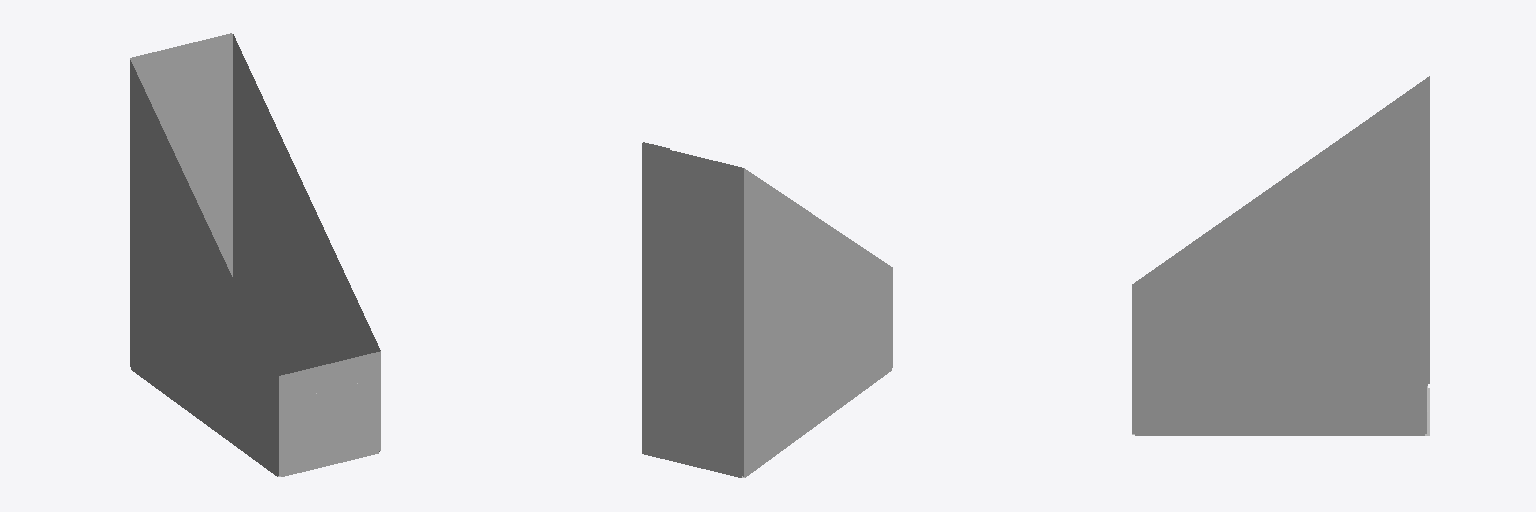
The model's file is Cardboard Desk Tidy - No Subdivision.obj.
3 renders of one model, left to right at view 1: azimuth 30°, elevation 25°; view 2: azimuth 150°, elevation 25°; view 3: azimuth 270°, elevation 25°, orthographic.
Parts seen in each view (by area): view 1: Line001, Plane001; view 2: Line001; view 3: Line001.
Boxes of the visible parts, x1,y1,x2,y2 form: Line001: [130, 33, 380, 476]; Plane001: [293, 380, 370, 449]; Line001: [642, 142, 892, 477]; Line001: [1132, 76, 1429, 435].
Size of the model in its own units: 105 by 305 by 267.